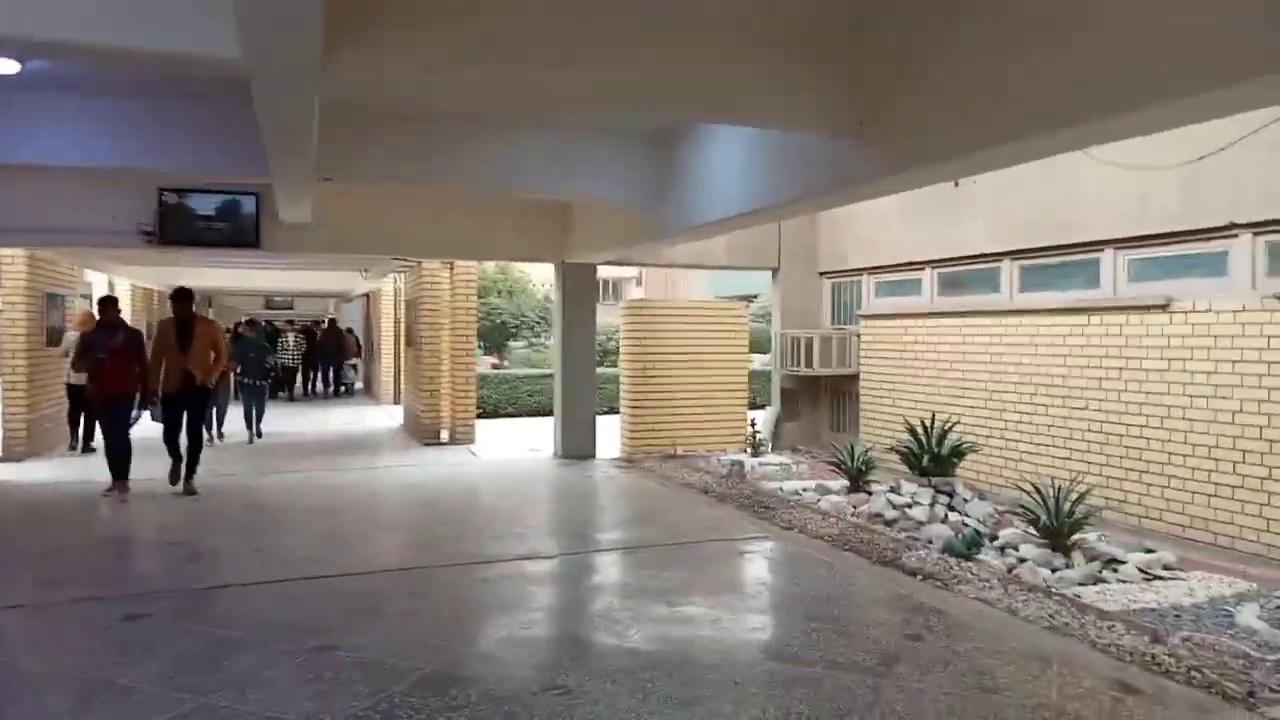person: (146, 285, 227, 495), (70, 294, 149, 496), (224, 317, 278, 444), (59, 309, 98, 454)
tree: (476, 266, 552, 370), (1007, 472, 1101, 556), (892, 410, 982, 477), (821, 439, 877, 493), (744, 415, 768, 456)
